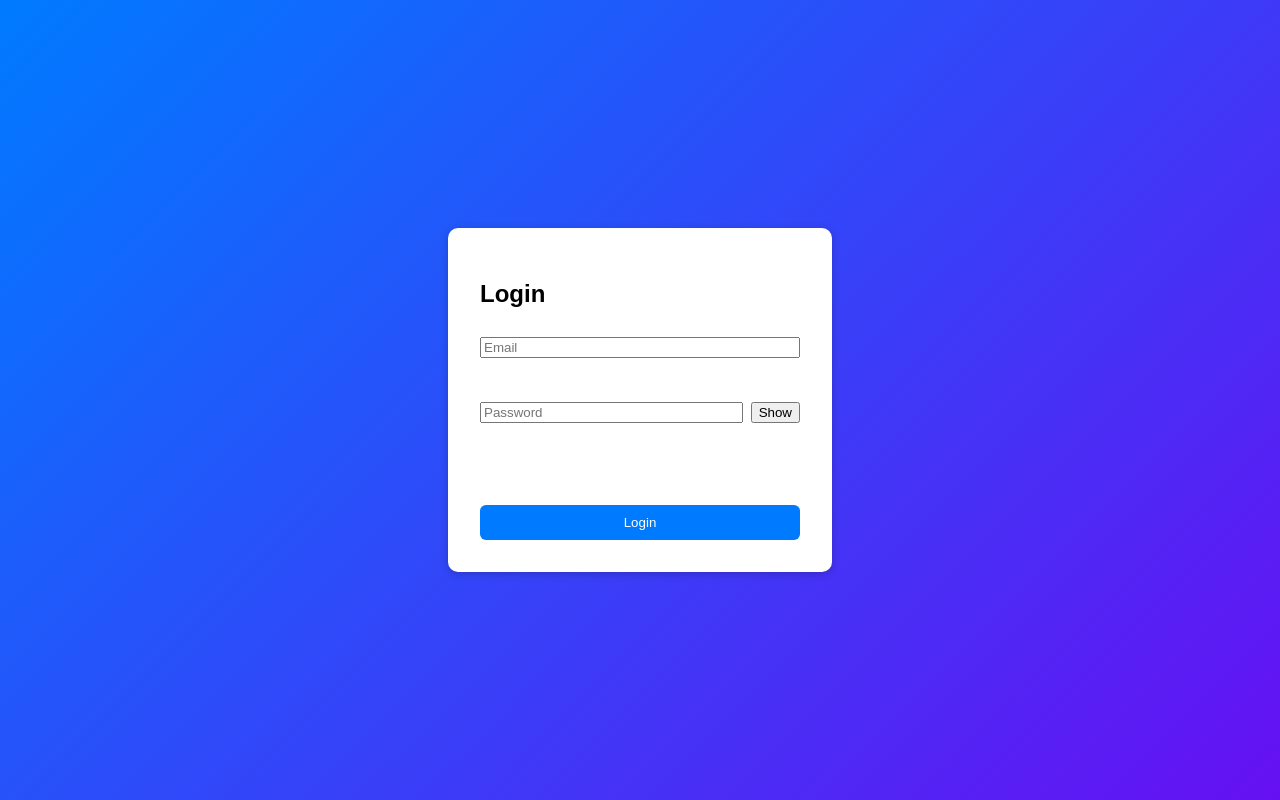
Login básico › login exitoso con credenciales válidas (sin redirección)
The width and height of the screenshot is (1280, 800).
In the field with test id "email-input": (640, 348) [480, 337, 800, 358], type "andrea@example.com"
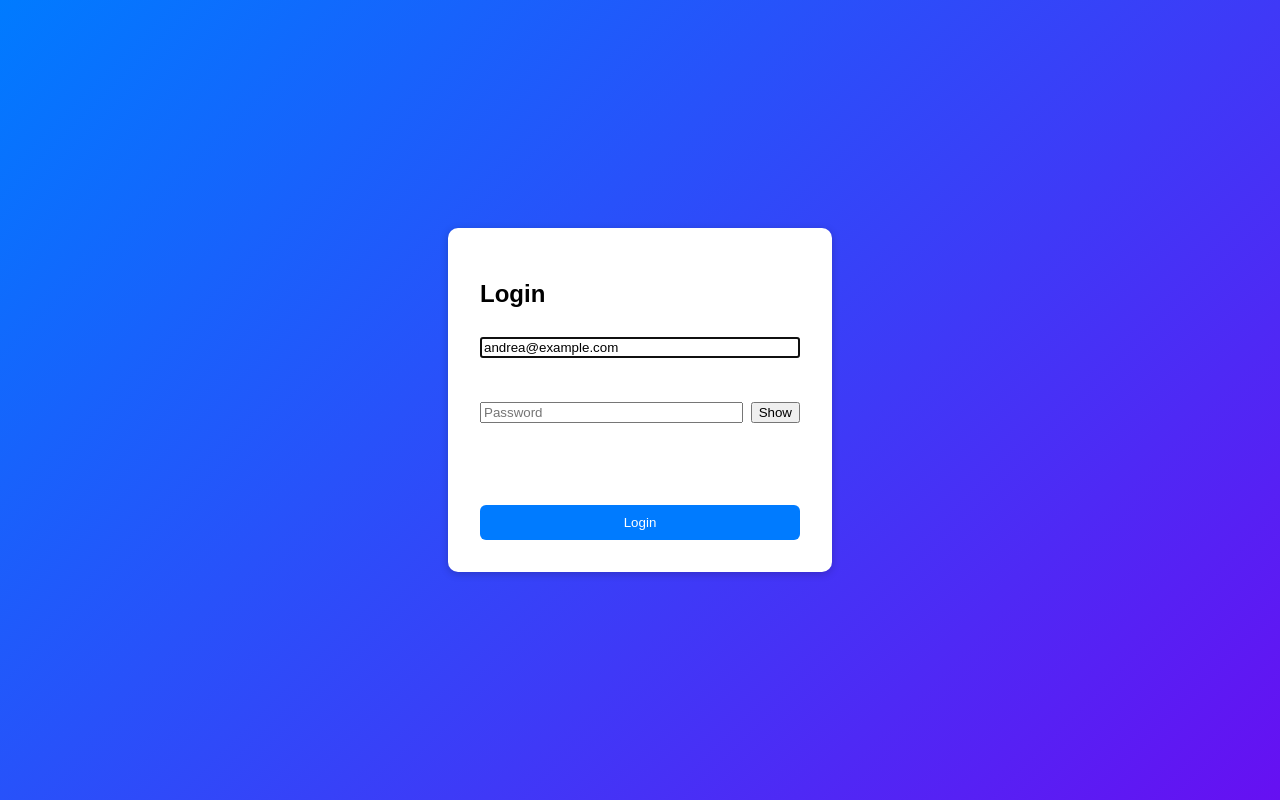
In the password field with test id "password-input": (612, 413) [480, 402, 743, 423], type "StrongPass123"
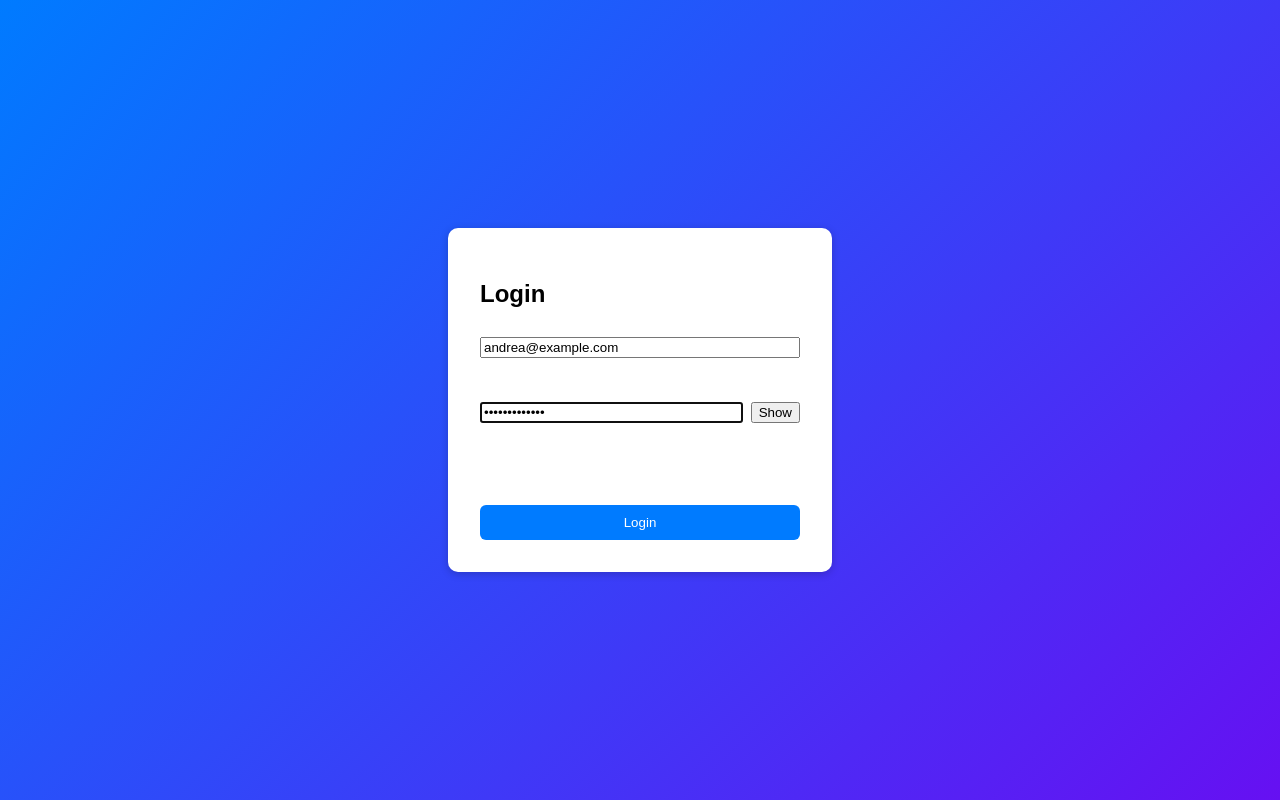
Click the button with test id "submit-button": (640, 523) [480, 505, 800, 540]
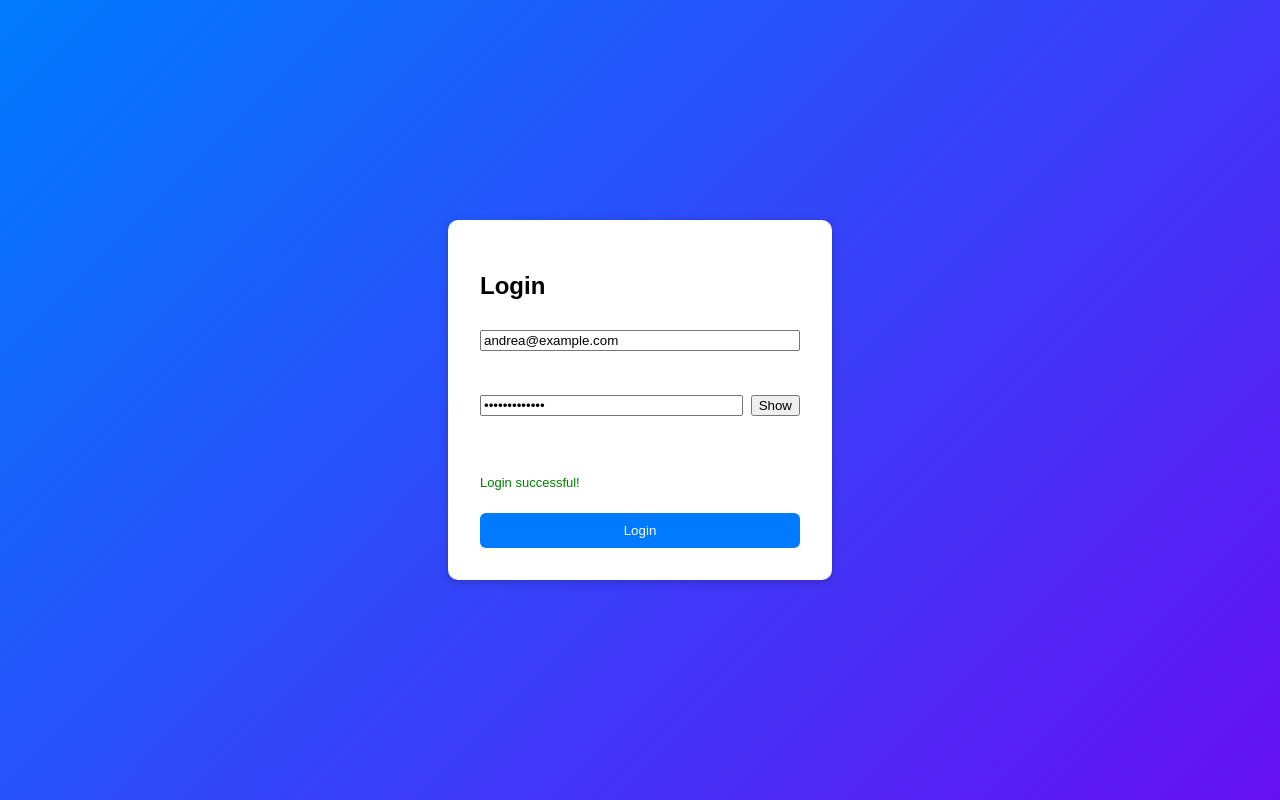
Expected: the text with test id "success-text" shows "Login successful", [480, 475, 580, 490]
